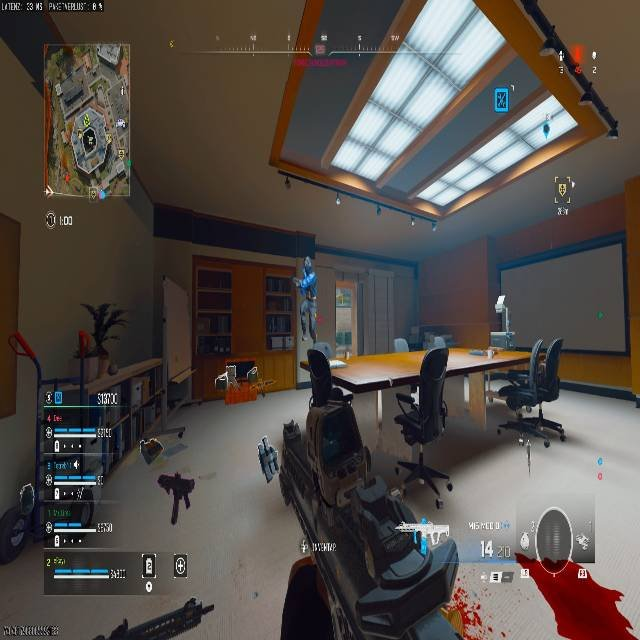player: (390, 347, 453, 507), (143, 429, 197, 529)
